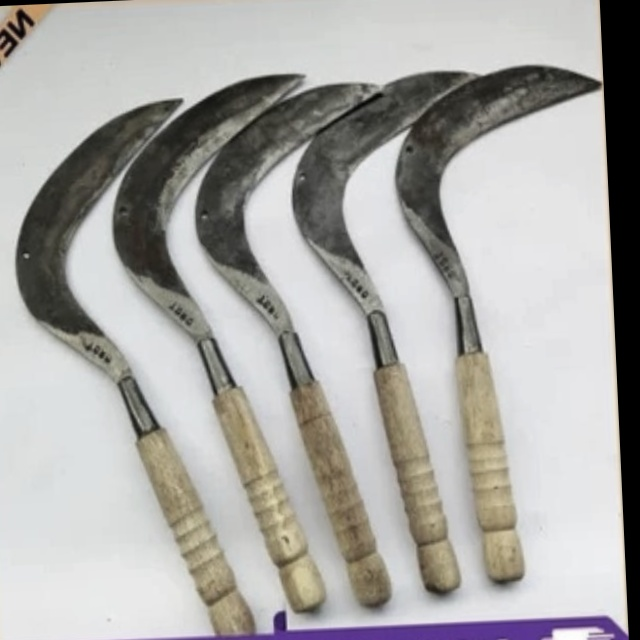Sharp-Object: (0, 88, 257, 640), (394, 26, 626, 596), (102, 67, 332, 629)
